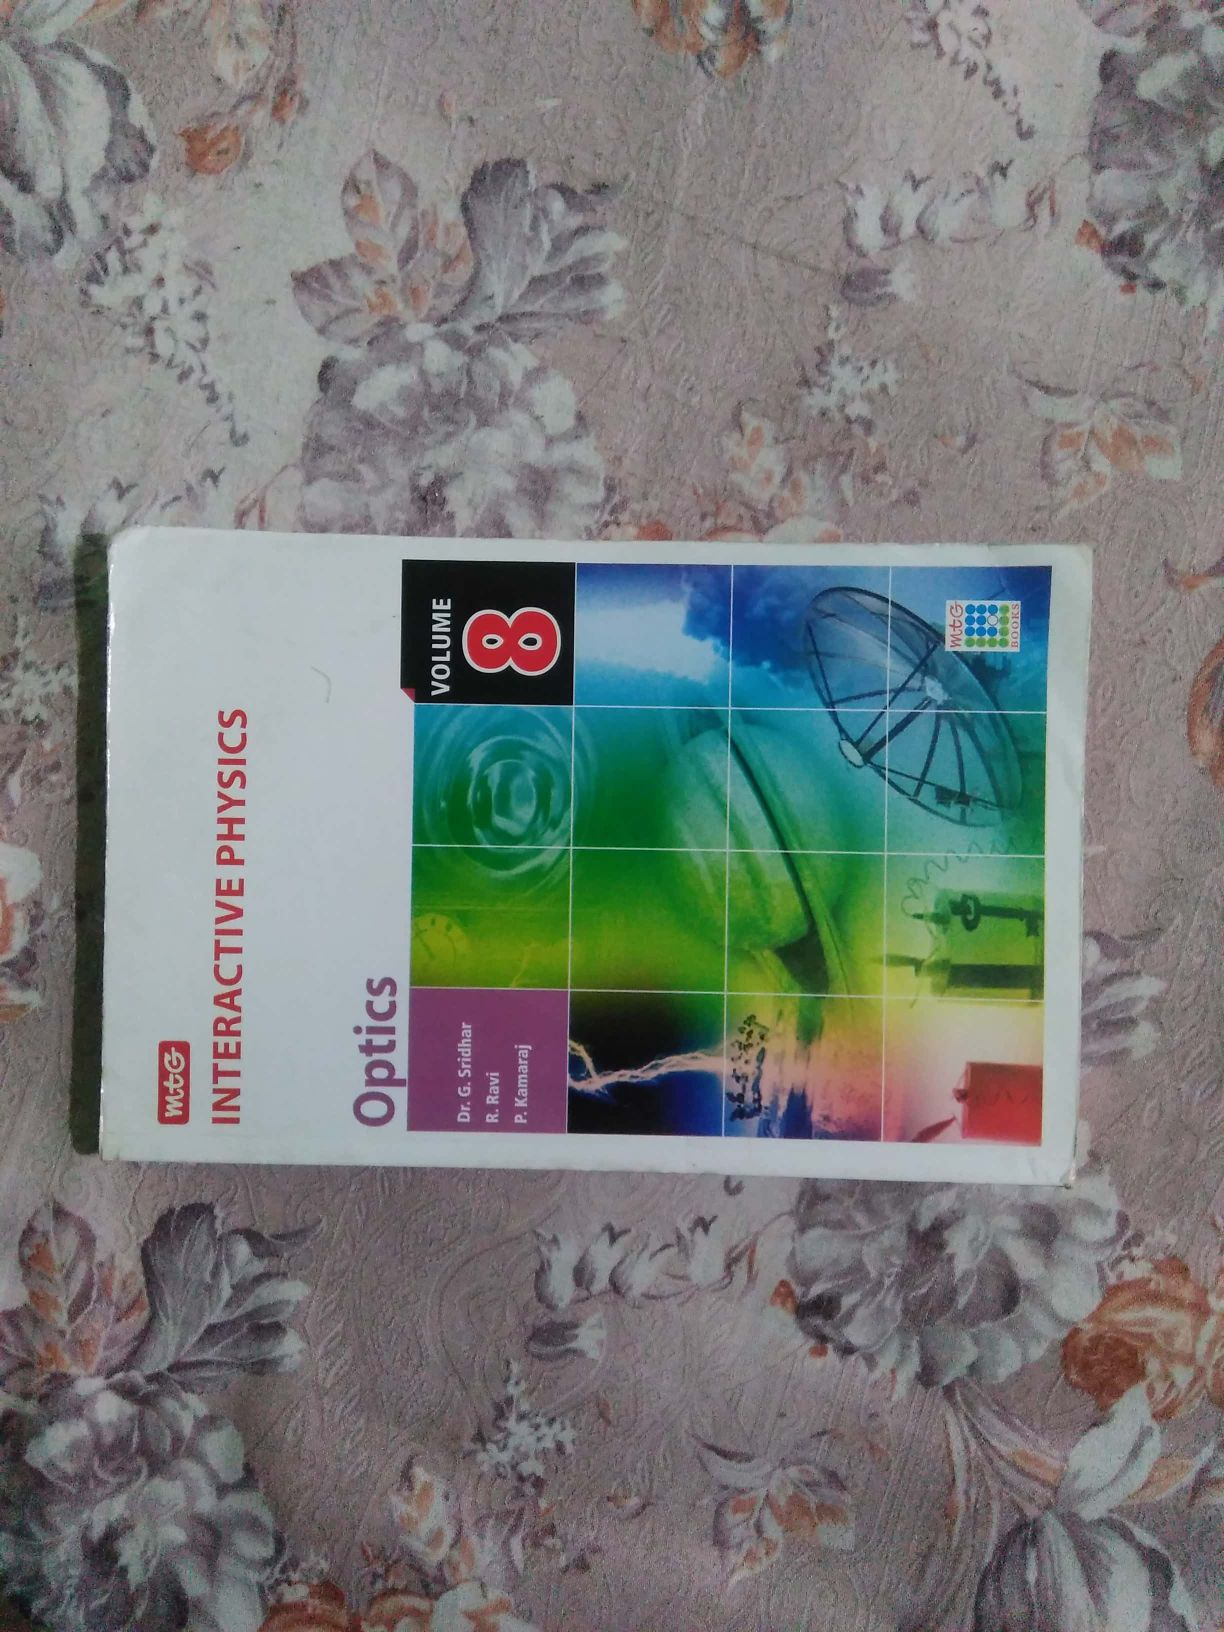optics: (76, 499, 1129, 1222)
